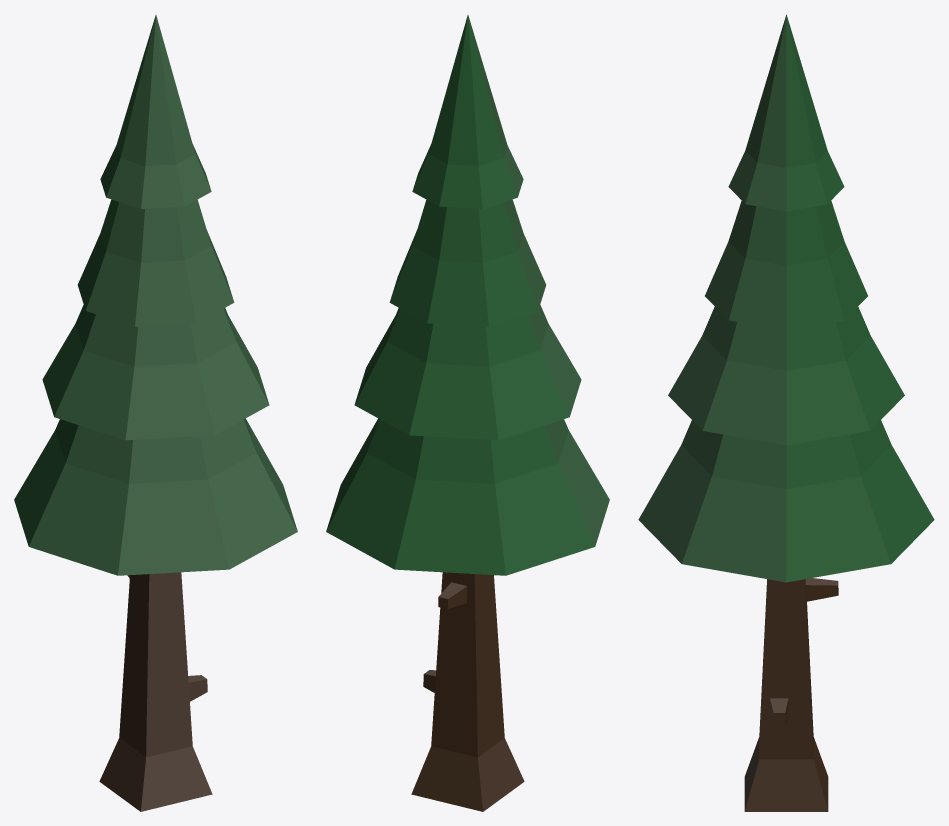
File: conifer_m.glb
The picture shows the model from 3 angles, left to right: view 1: azimuth 30°, elevation 25°; view 2: azimuth 150°, elevation 25°; view 3: azimuth 270°, elevation 25°; orthographic projection.
Visible parts, largest first — view 1: conifer_m; view 2: conifer_m; view 3: conifer_m.
Boxes of the visible parts, box(x1,y1,x2,y2) form: conifer_m: box(14, 15, 297, 811); conifer_m: box(326, 15, 609, 811); conifer_m: box(638, 14, 934, 811).
Size of the model in its own units: 1.86 by 5.4 by 1.86.
